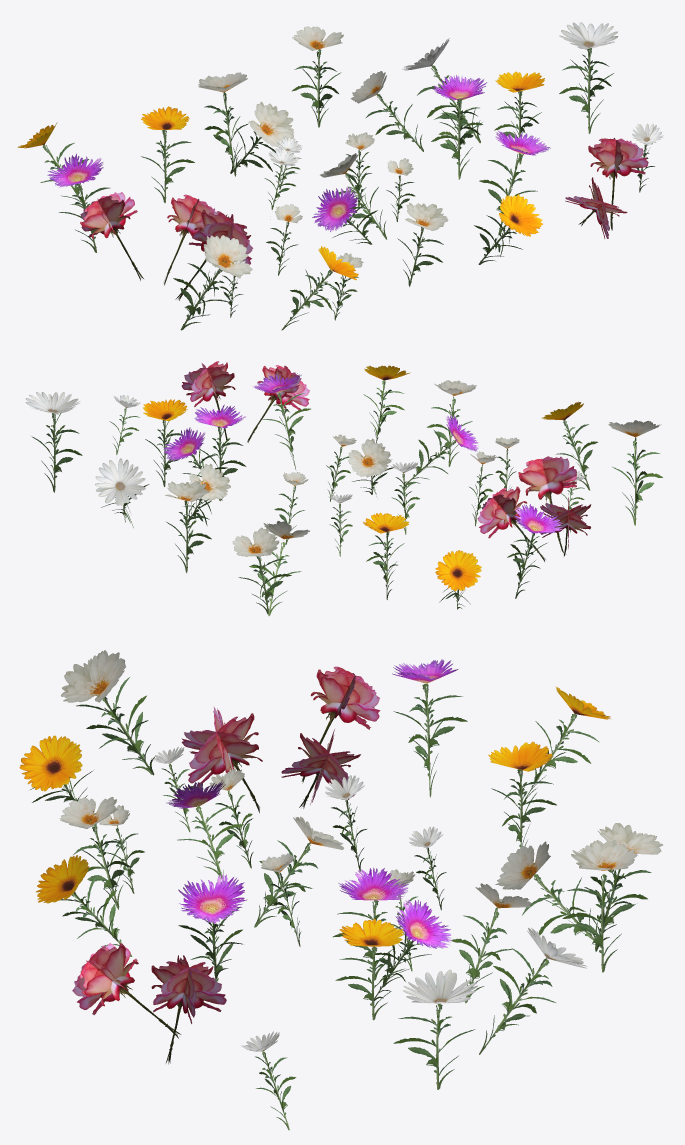
File: SM_Flowers_02.glb
The picture shows the model from 3 angles, top to bottom: view 1: azimuth 30°, elevation 25°; view 2: azimuth 150°, elevation 25°; view 3: azimuth 270°, elevation 25°; orthographic projection. The views are drawn at different scales.
Parts seen in each view (by area): view 1: SM_Flowers_02; view 2: SM_Flowers_02; view 3: SM_Flowers_02.
Part boxes in pixels (x1,y1,x2,y2): SM_Flowers_02: [17, 22, 663, 330]; SM_Flowers_02: [25, 361, 662, 615]; SM_Flowers_02: [19, 650, 662, 1130].
Bounding box in the file's own units: 2.12 × 0.4542 × 1.6.
1 material, 1 textured.
